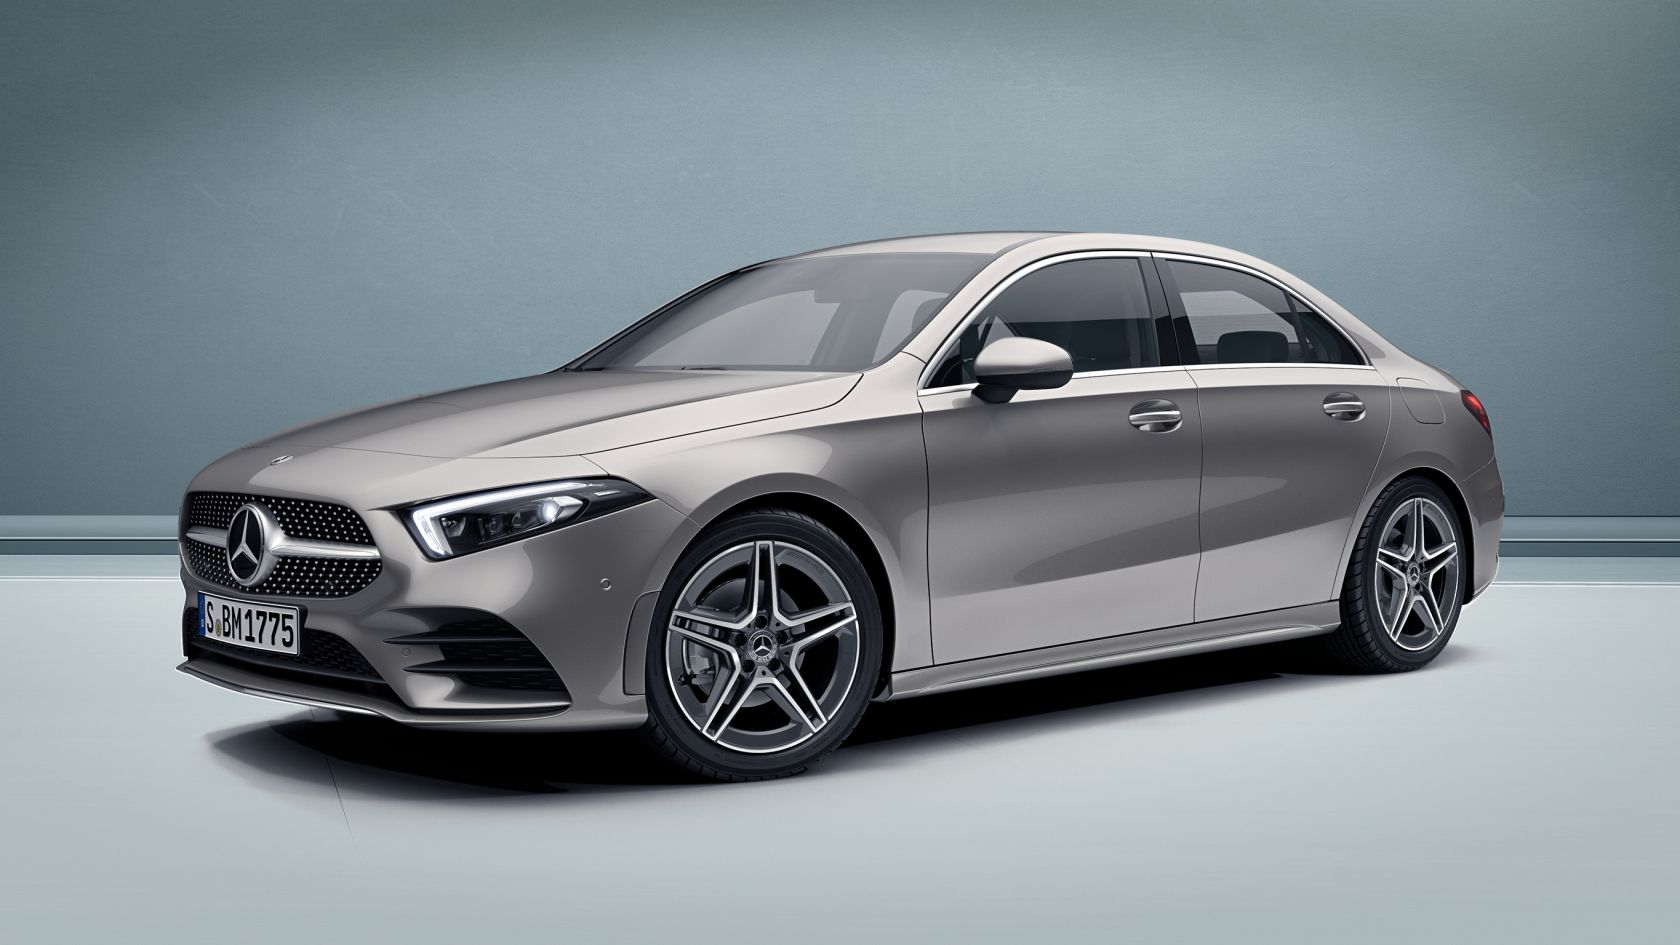car: (170, 226, 1509, 789)
